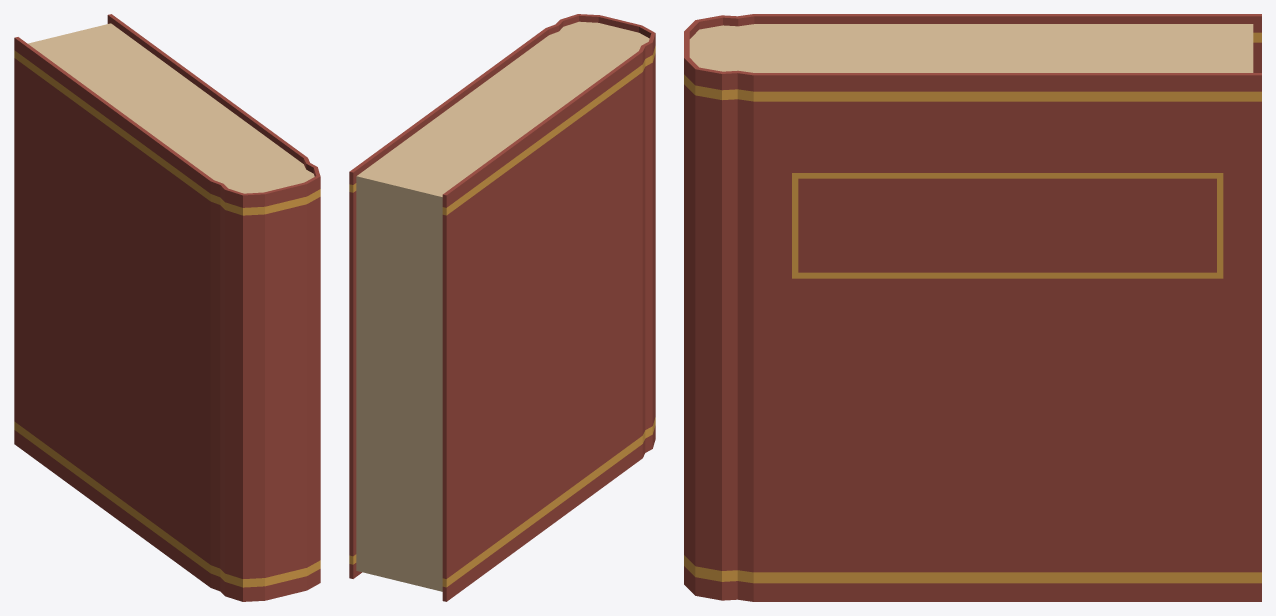
Rendered from book_3D.glb.
The picture shows the model from 3 angles, left to right: view 1: azimuth 30°, elevation 25°; view 2: azimuth 150°, elevation 25°; view 3: azimuth 270°, elevation 25°; orthographic projection. The views are drawn at different scales.
Visible parts, largest first — view 1: book_cover; view 2: book_cover; view 3: book_cover.
Part boxes in pixels (x1=…): book_cover: x1=14, y1=14, x2=320, y2=601; book_cover: x1=349, y1=14, x2=655, y2=601; book_cover: x1=684, y1=14, x2=1261, y2=601.
Size of the model in its own units: 0.0515 by 0.206 by 0.2049.
